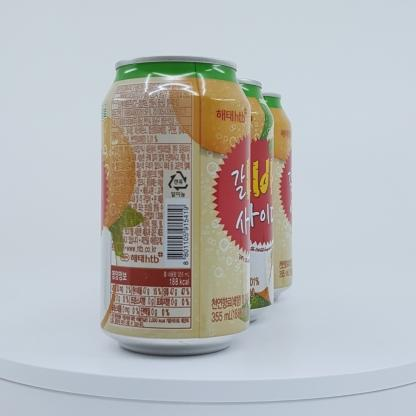-------355ML: (101, 56, 250, 357)
